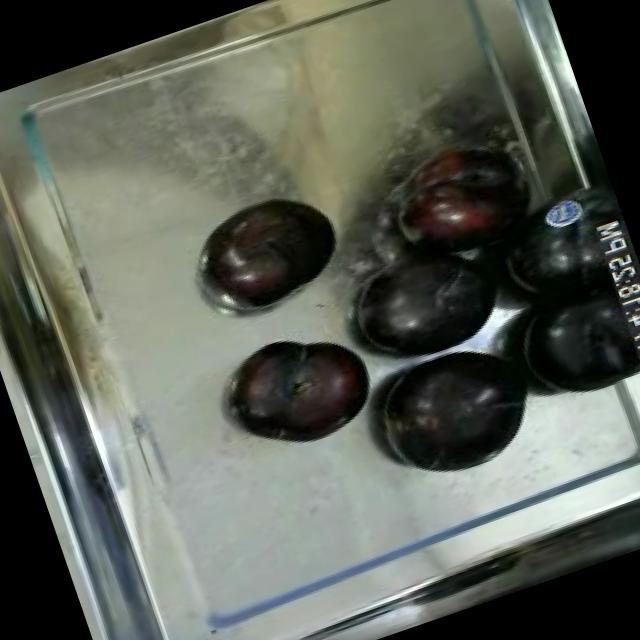Fruit: (358, 321, 561, 498), (331, 214, 526, 385), (367, 119, 552, 288), (212, 308, 394, 471), (186, 176, 357, 328)
